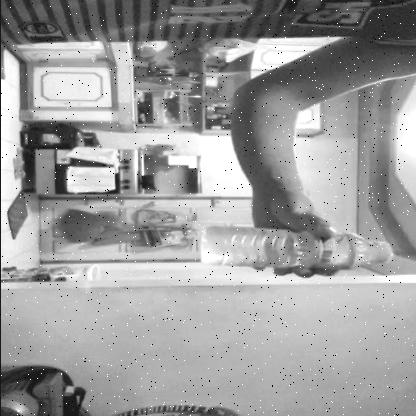Plastic Bottle: (196, 226, 391, 269)
